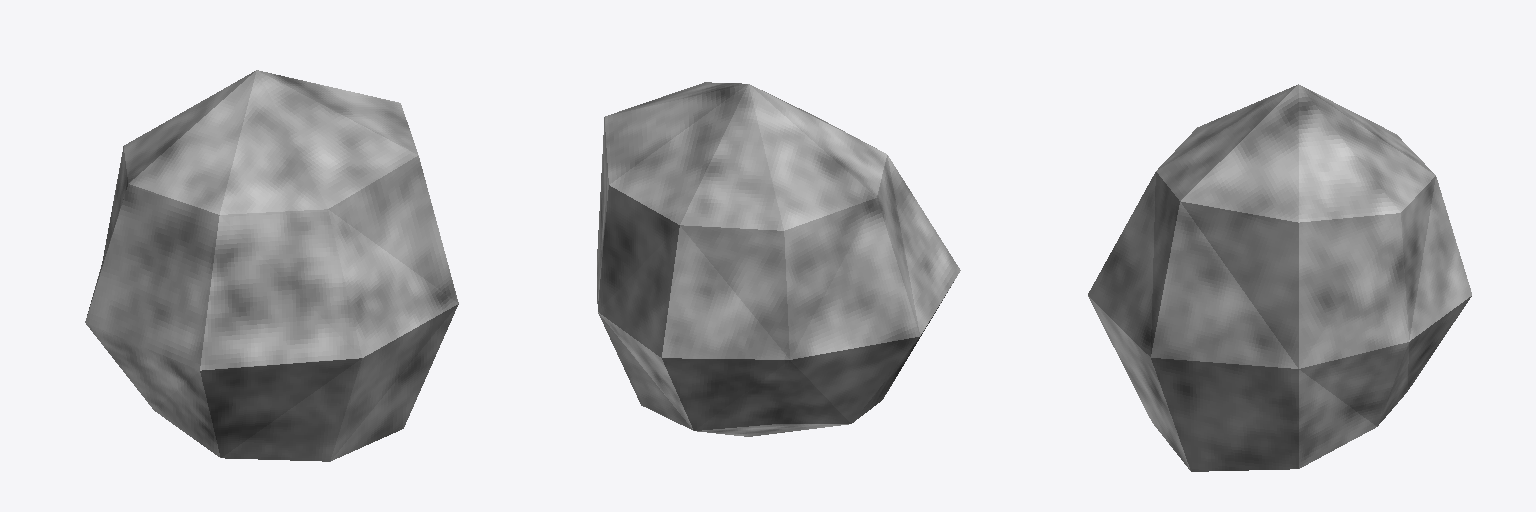
3 renders of one model, left to right at view 1: azimuth 30°, elevation 25°; view 2: azimuth 150°, elevation 25°; view 3: azimuth 270°, elevation 25°, orthographic.
Visible parts, largest first — view 1: asteroid_01.008_asteroid.001; view 2: asteroid_01.008_asteroid.001; view 3: asteroid_01.008_asteroid.001.
Boxes of the visible parts, <box> form: asteroid_01.008_asteroid.001: <box>85,70,458,461</box>; asteroid_01.008_asteroid.001: <box>597,82,960,436</box>; asteroid_01.008_asteroid.001: <box>1088,84,1471,471</box>.
Bounding box in the file's own units: 1.96 × 2.04 × 2.02.
1 materials, 1 textured.